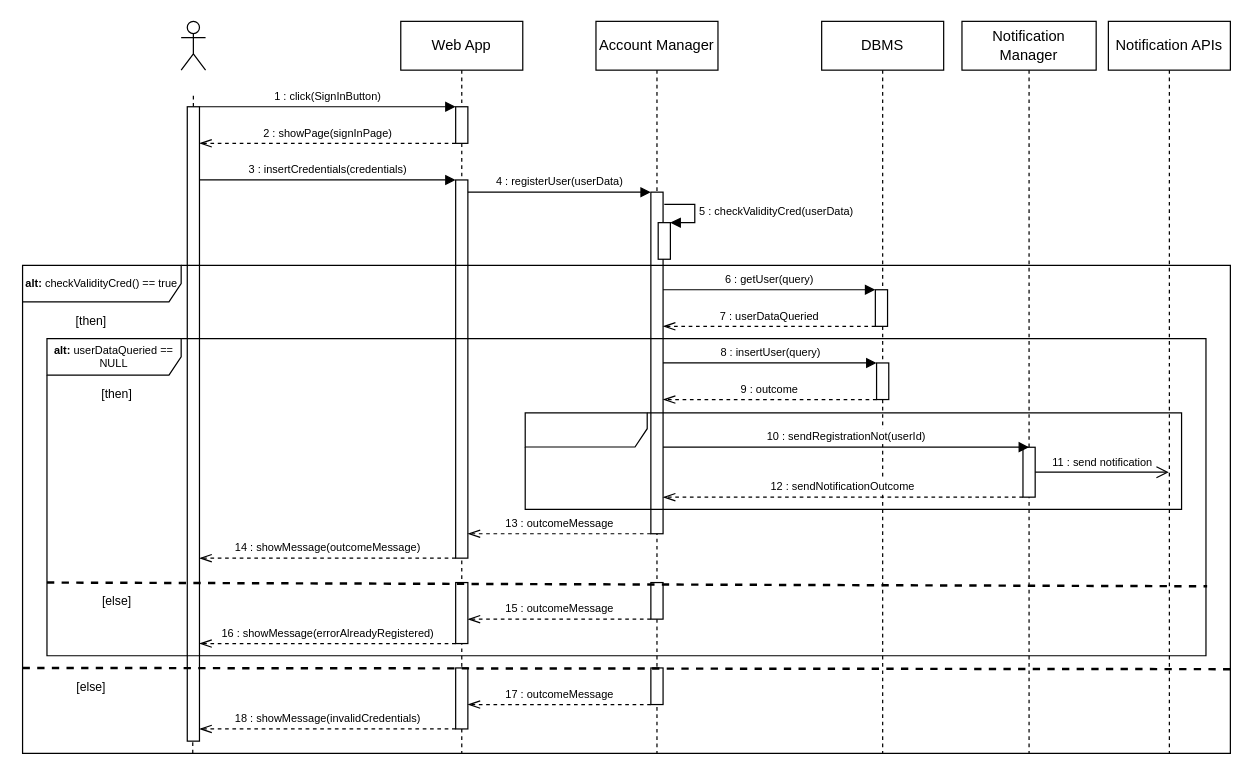
This 1253x776 diagram has some shape labels left out. The centre of each missing label's shape, as x and y in pixels:
"loop: sendNotification Outcome == false" goes at point (853, 460).
"Student" goes at point (193, 45).
